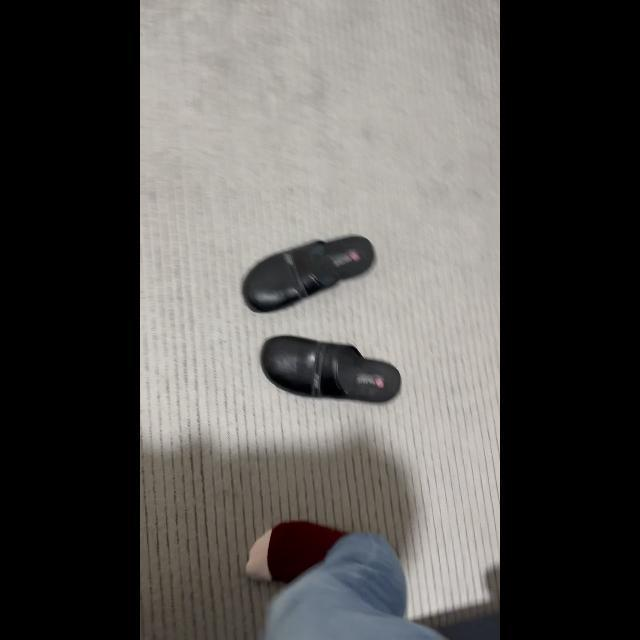slipper: (240, 224, 384, 316), (258, 329, 404, 408)
